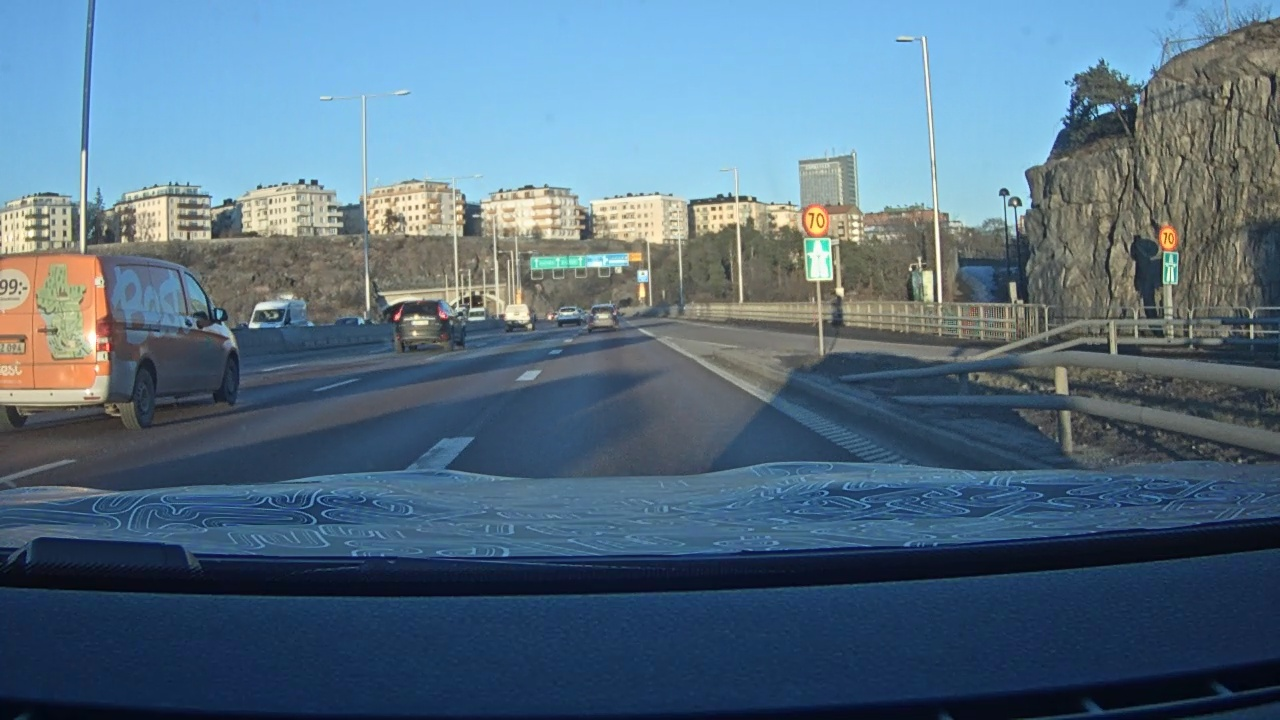Motorway_Begin: (805, 238, 834, 283)
